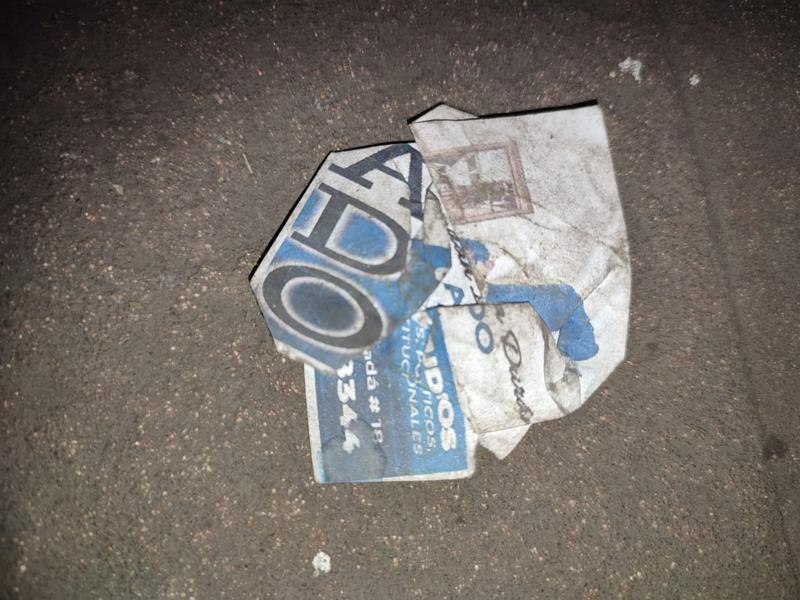papel: (249, 103, 631, 486)
